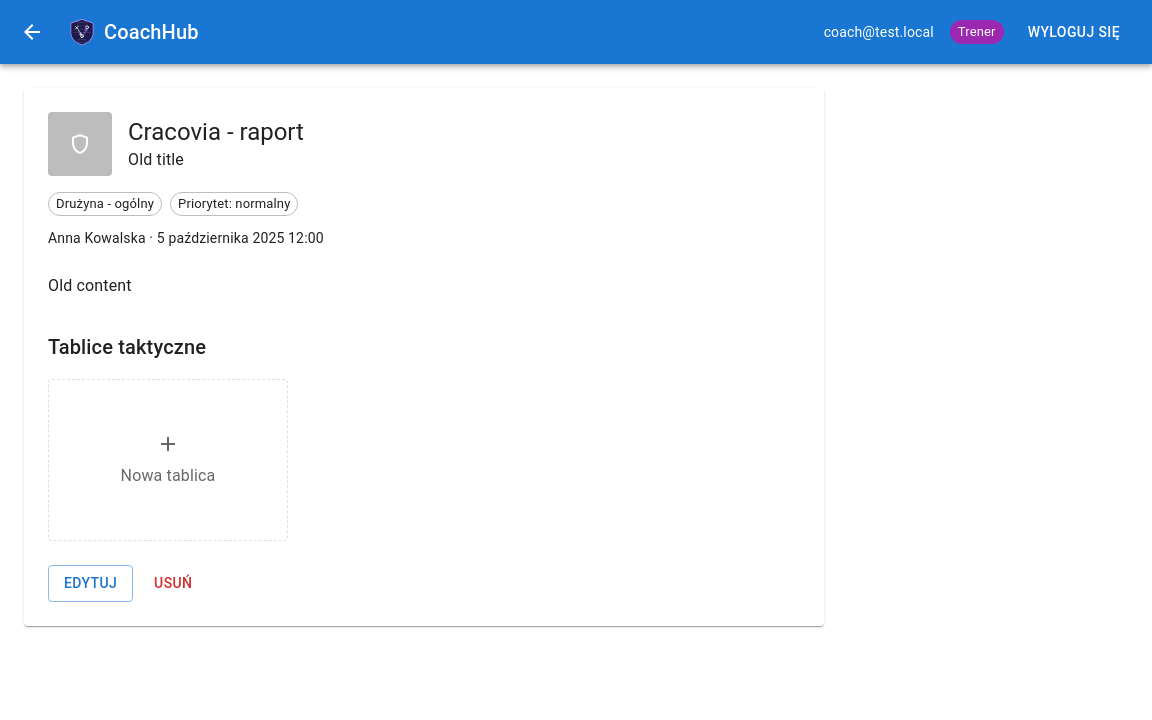
editing the report › opens the form with the report and saves the changes
This screenshot has width=1152, height=720.
Expected: the text "Old title" is shown, [128,150,184,169]
Click the button "Edytuj".
click(91, 583)  # box [48,565,133,602]
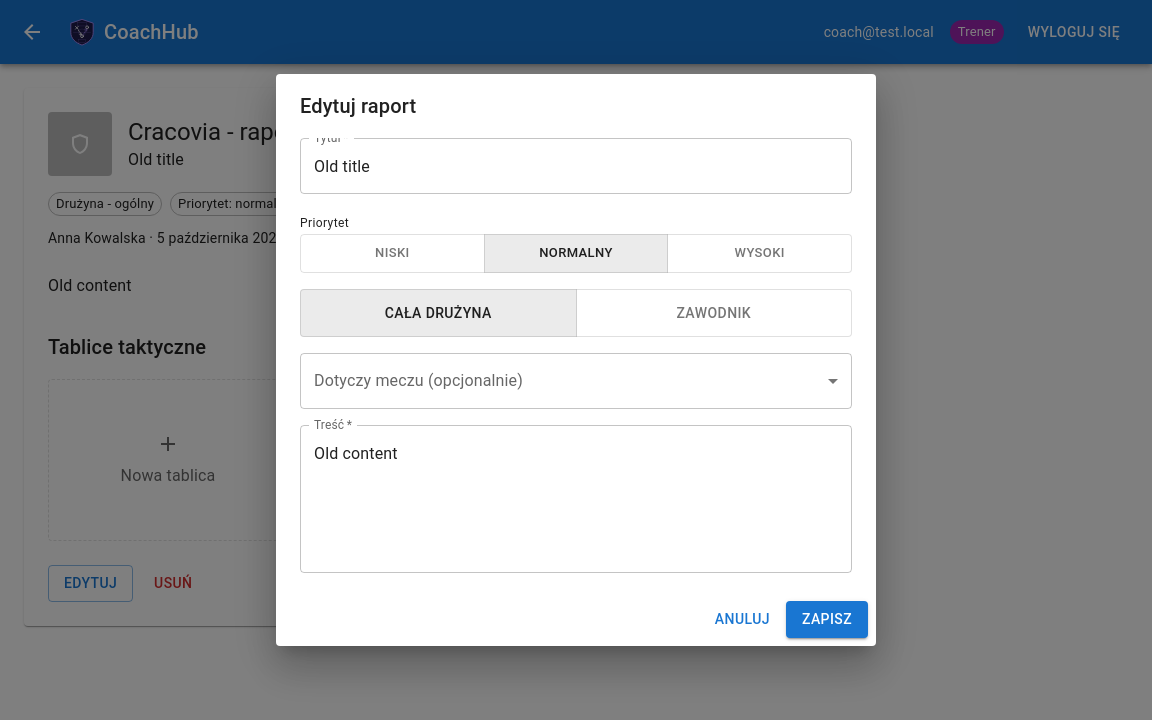
Now the heading "Edytuj raport" is shown, box [300,94,416,118]
Now the field labelled "Tytuł *" holds "Old title"
Replace the text in the field labelled "Tytuł *" with "New title" at (576, 166), box [300,138,852,194]
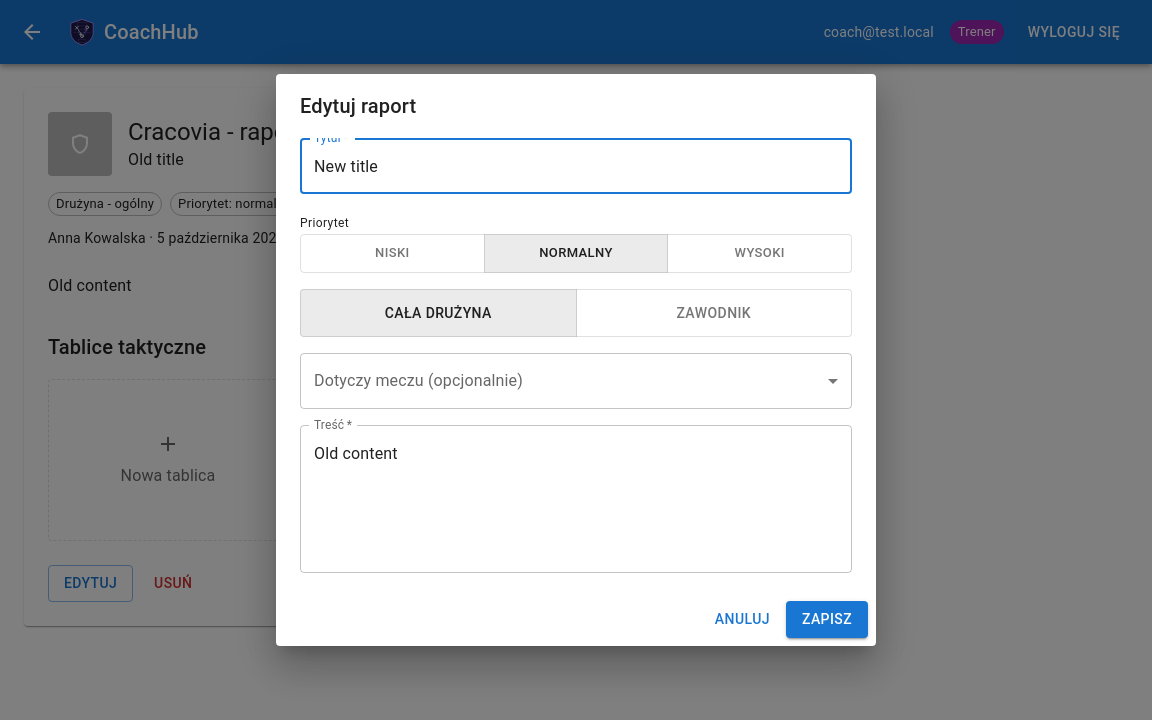
Click the button "Wysoki".
click(760, 254)  # box [667,234,852,273]
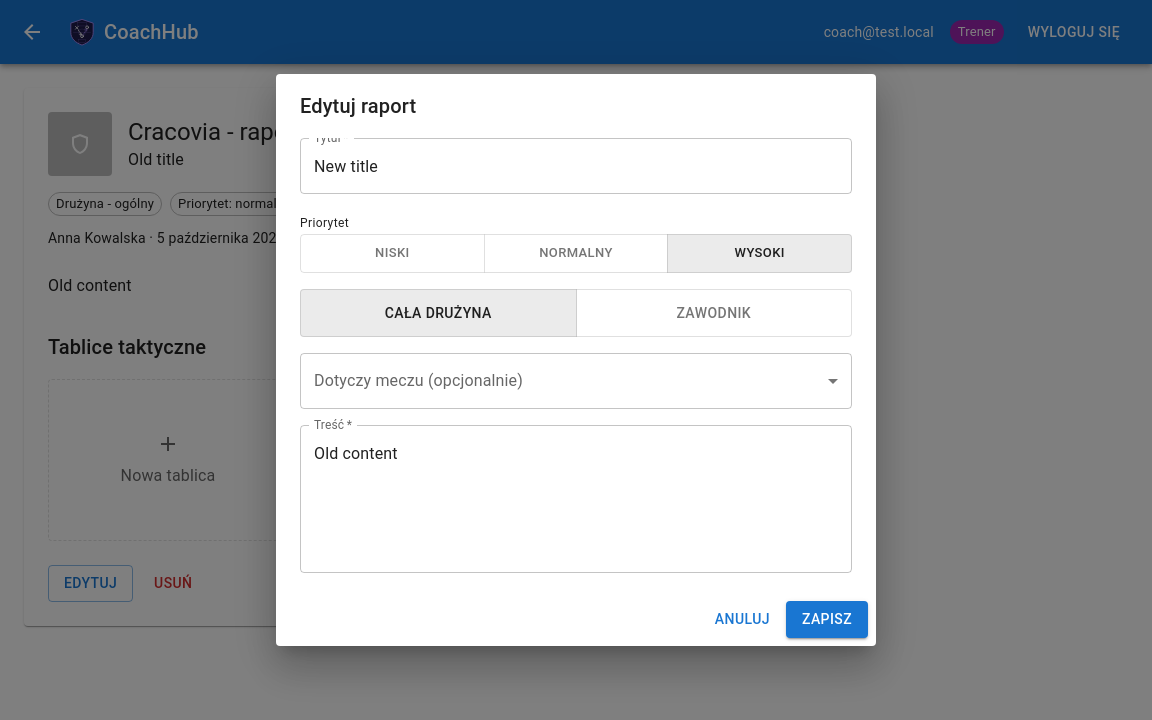
Click the button "Zapisz".
click(827, 620)  # box [786,601,868,638]
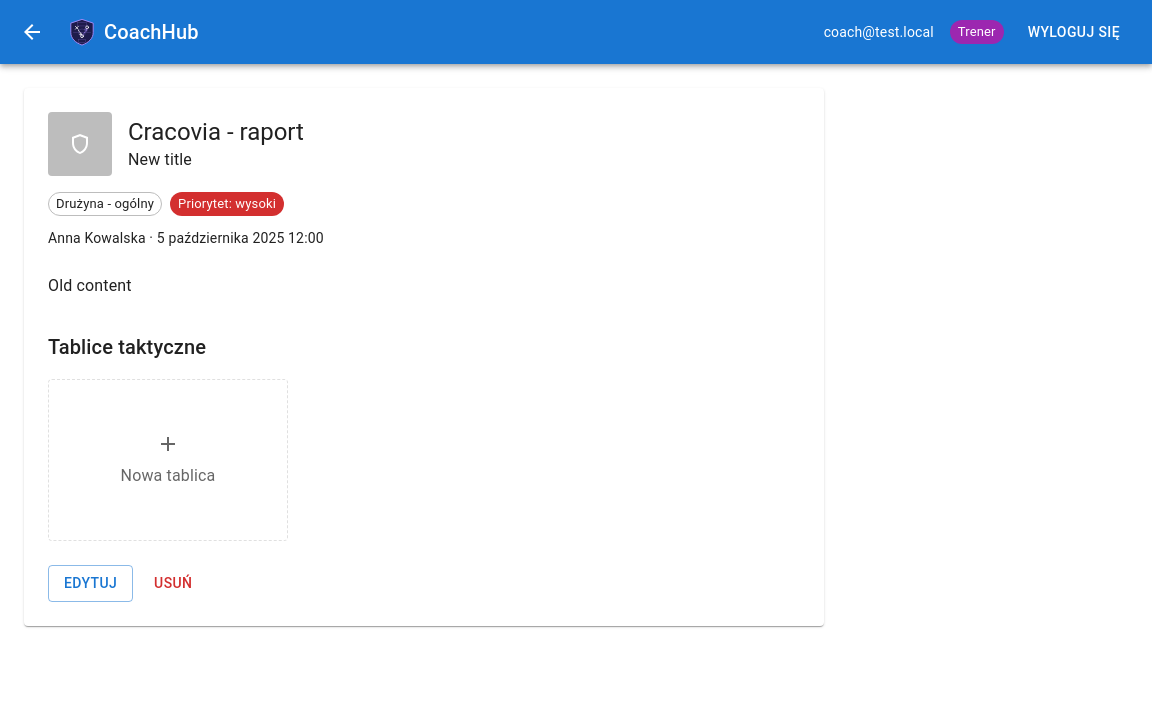
Now the text "New title" is shown, box [128,150,192,169]
Now the text "Priorytet: wysoki" is shown, box [170,194,284,214]
Now the dialog is gone
